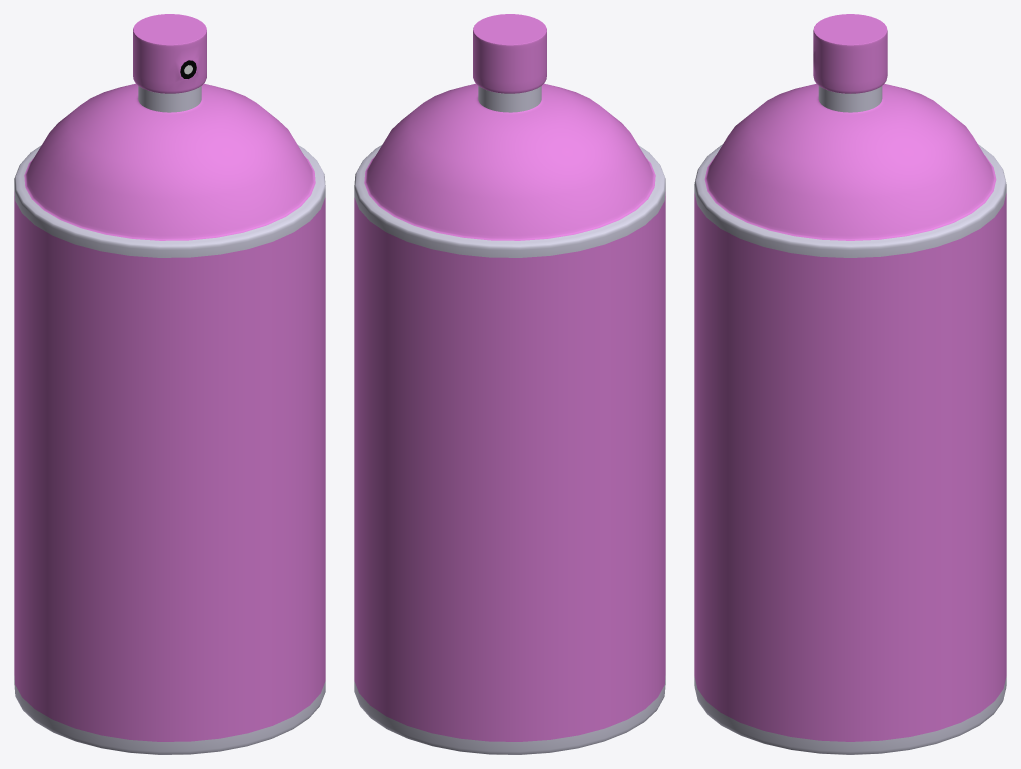
The model's file is spray_can.fbx.
The picture shows the model from 3 angles, left to right: view 1: azimuth 30°, elevation 25°; view 2: azimuth 150°, elevation 25°; view 3: azimuth 270°, elevation 25°; orthographic projection.
Parts seen in each view (by area): view 1: spray_bottle; view 2: spray_bottle; view 3: spray_bottle.
Boxes of the visible parts, x1,y1,x2,y2 form: spray_bottle: [14, 14, 325, 754]; spray_bottle: [354, 14, 665, 754]; spray_bottle: [694, 14, 1006, 754].
Bounding box in the file's own units: 50.24 × 117 × 50.24.
